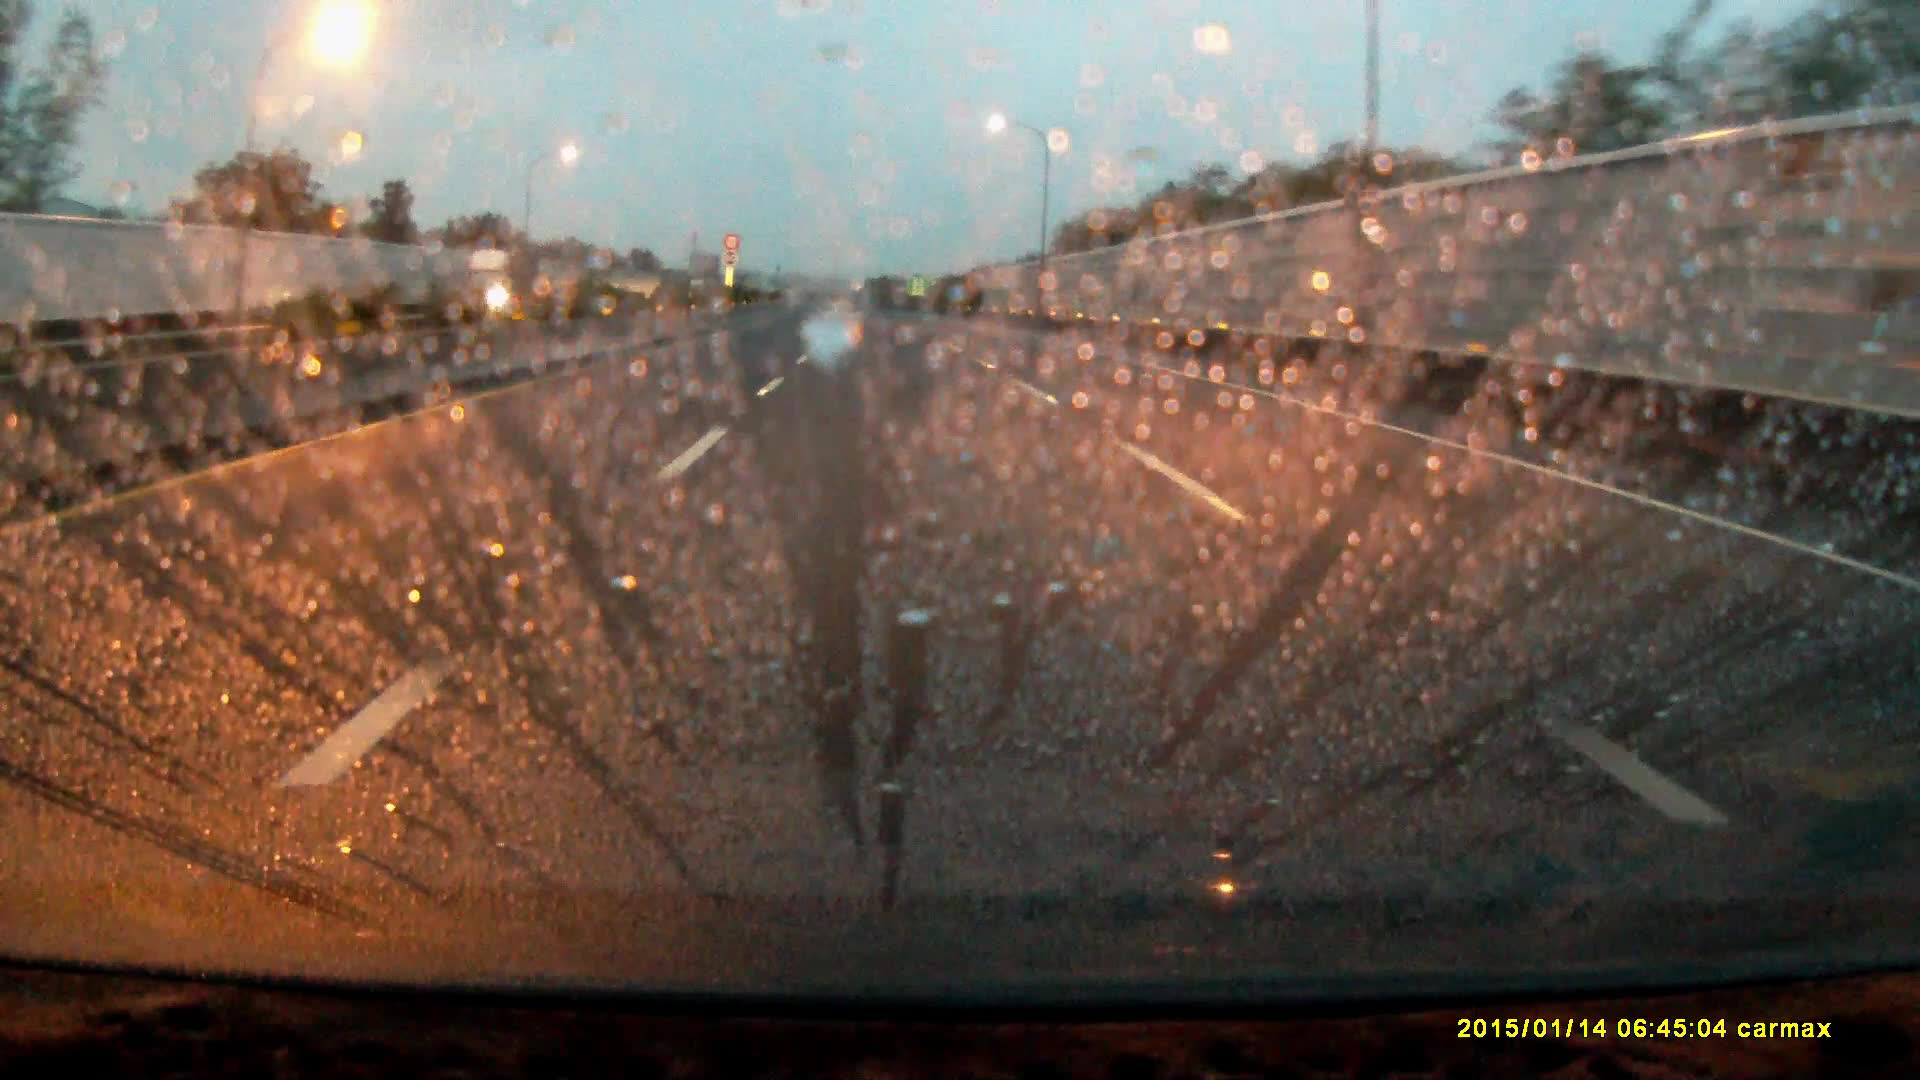vehicle: (465, 251, 543, 313)
